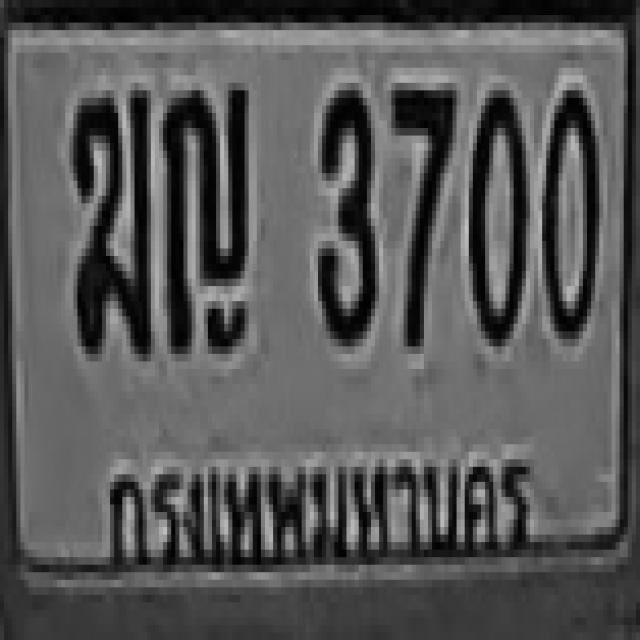0: (465, 83, 526, 339), (540, 83, 597, 331)
15KhorRaKhang: (69, 87, 147, 350)
22YorYing: (159, 79, 245, 335)
3: (314, 83, 371, 339)
7: (388, 79, 452, 343)
Bangkok: (94, 434, 533, 572)
